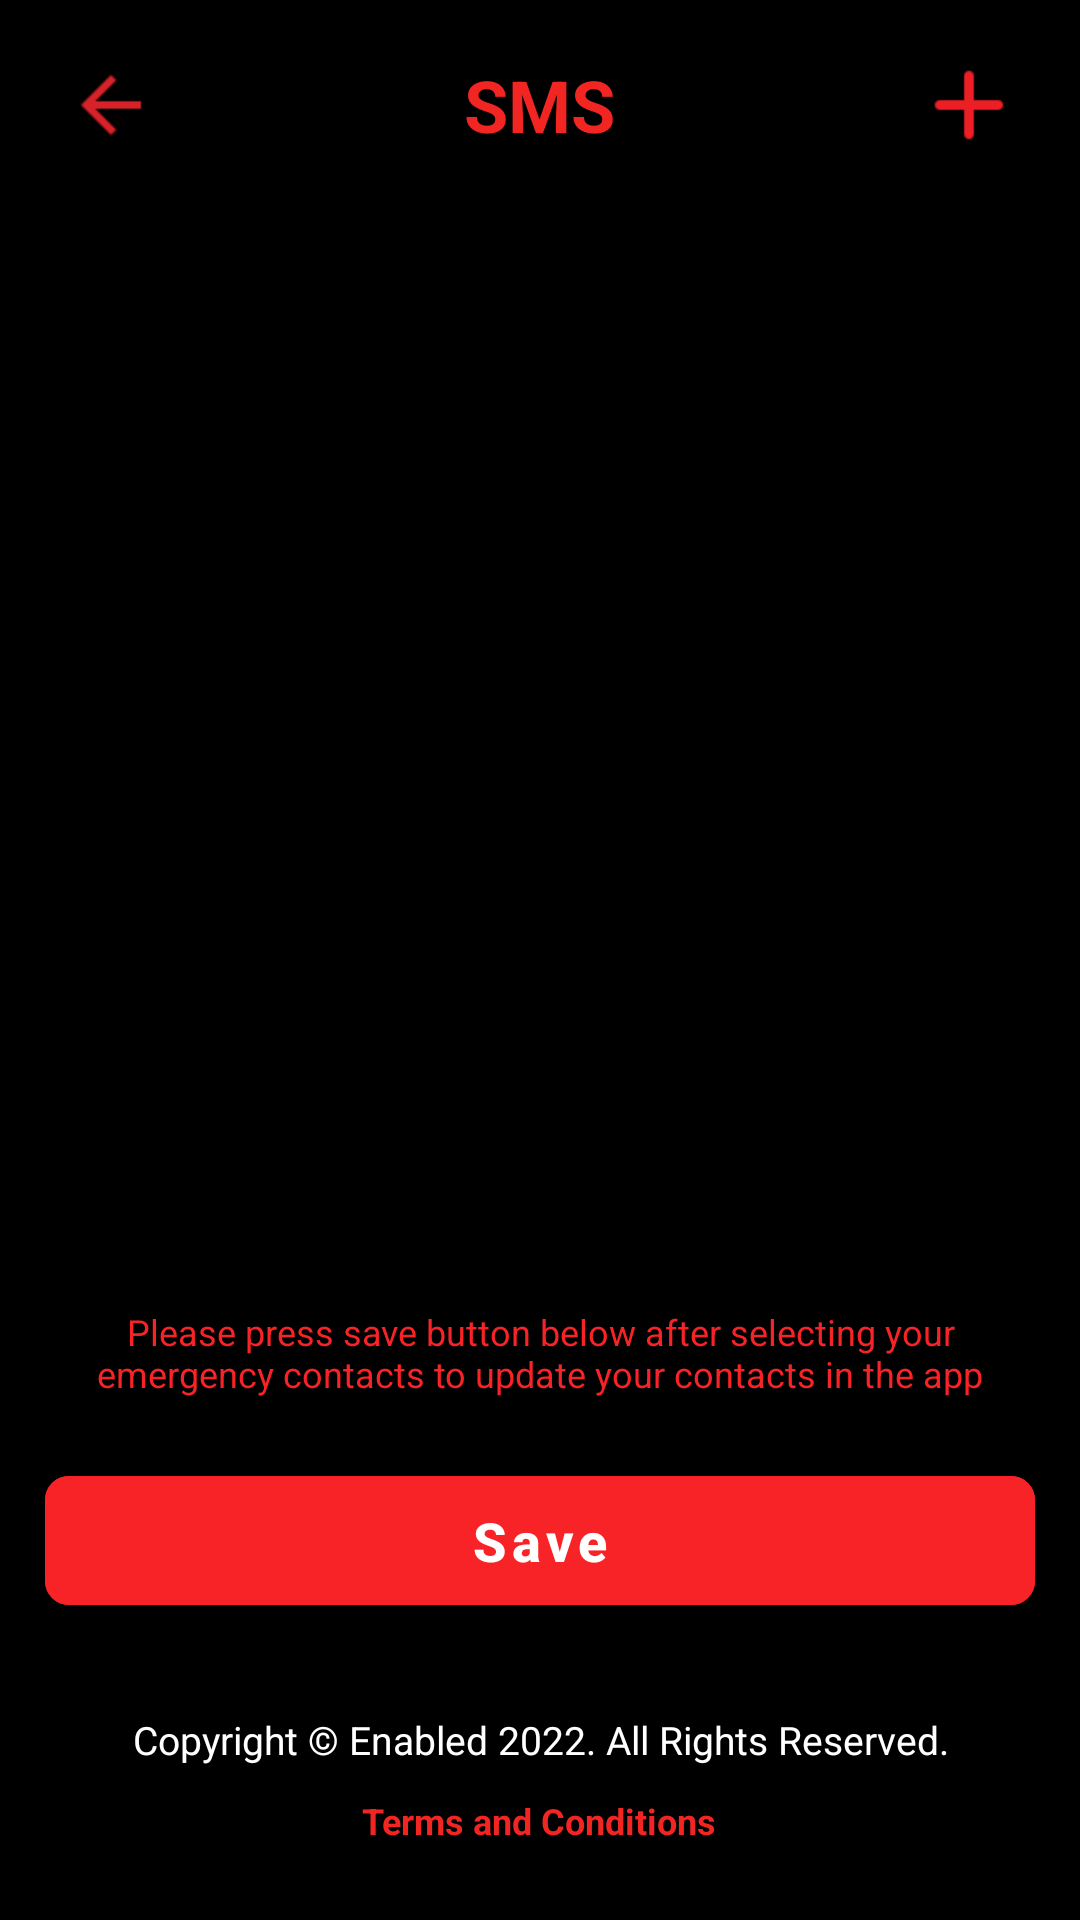

Named icons in this screenshot (1080×1920) and their centers, point (x, y):
add: point (969, 105)
back: point (111, 105)
